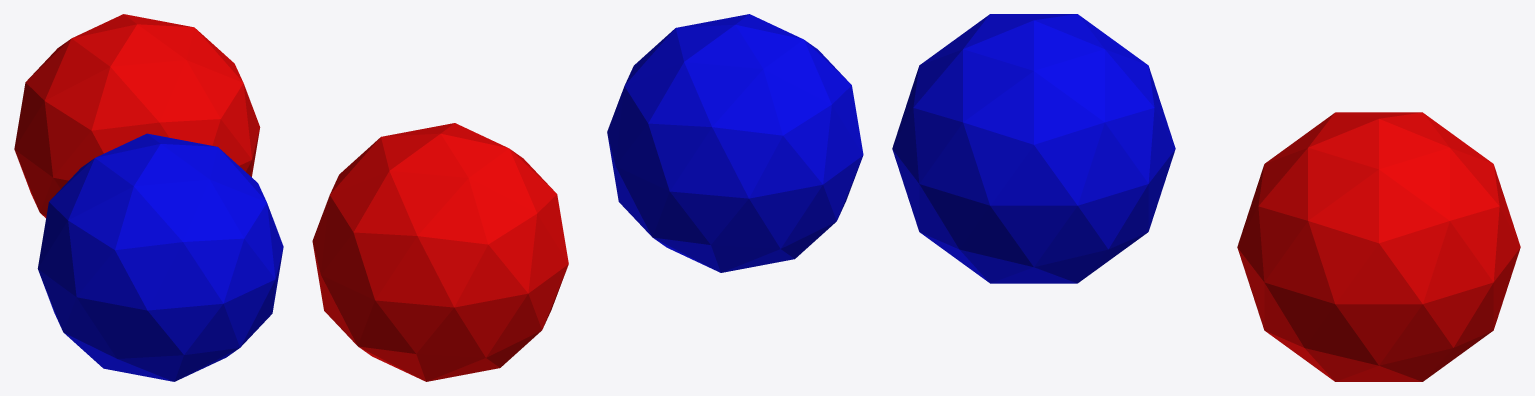
Rendered from water.gltf.
3 renders of one model, left to right at view 1: azimuth 30°, elevation 25°; view 2: azimuth 150°, elevation 25°; view 3: azimuth 270°, elevation 25°, orthographic. The views are drawn at different scales.
Visible parts, largest first — view 1: Icosphere, Icosphere.001; view 2: Icosphere, Icosphere.001; view 3: Icosphere, Icosphere.001.
Boxes of the visible parts, x1,y1,x2,y2 form: Icosphere: [37, 133, 283, 381]; Icosphere.001: [14, 14, 260, 217]; Icosphere: [607, 14, 863, 272]; Icosphere.001: [312, 123, 568, 381]; Icosphere: [892, 14, 1175, 283]; Icosphere.001: [1237, 112, 1520, 381].
Size of the model in its own units: 3.09 by 2.21 by 4.43.
